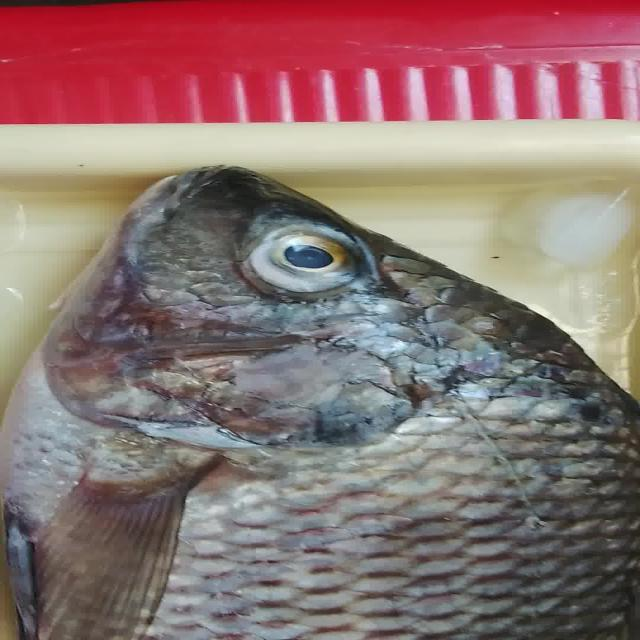Fresh: (22, 336, 563, 636), (233, 218, 380, 298)
